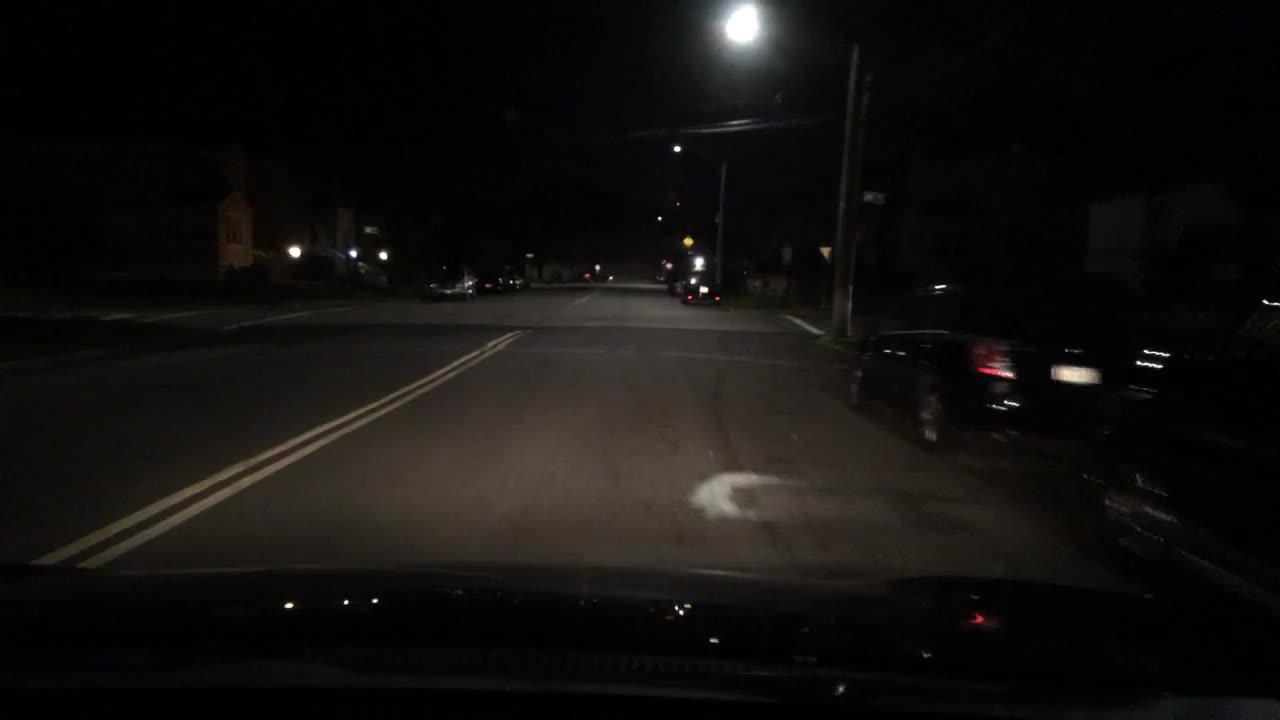car: (1080, 293, 1275, 598), (848, 278, 1159, 451), (424, 267, 476, 303), (682, 274, 716, 306), (476, 275, 505, 296), (506, 273, 527, 296), (581, 269, 613, 284), (666, 273, 685, 296), (652, 267, 672, 285)
traffic sign: (862, 192, 884, 204), (682, 235, 693, 247), (822, 247, 831, 259)
